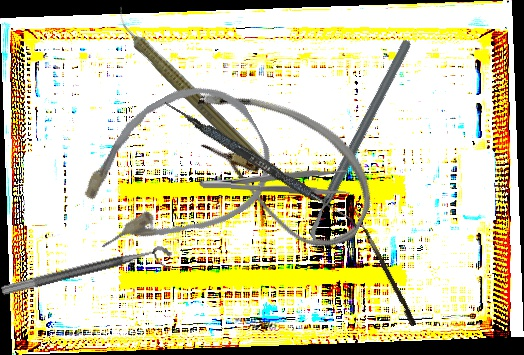Cannula: (53, 64, 290, 280), (163, 68, 394, 263)
Chopper: (247, 37, 474, 251)
Dressing Forceps: (198, 164, 351, 197)
Fixation Ring: (0, 243, 176, 310)
Handpiece: (104, 4, 271, 171)
Hook Surgical: (344, 201, 419, 327)
Spatula Surgical: (159, 99, 363, 228)
